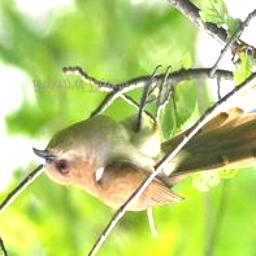Cuckoo: (30, 67, 256, 212)
